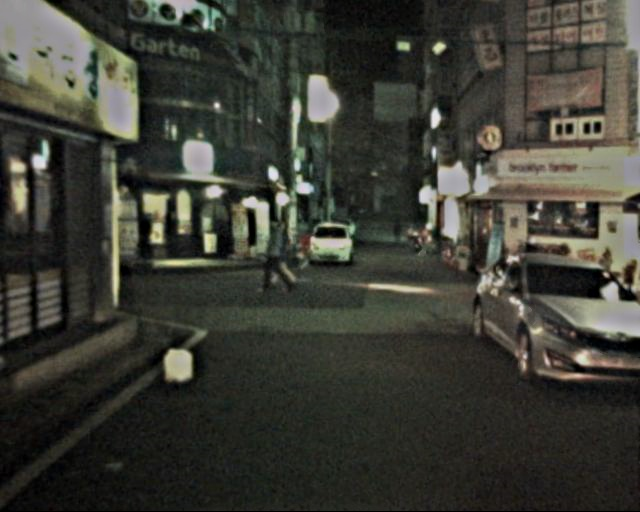person: (258, 217, 293, 296)
